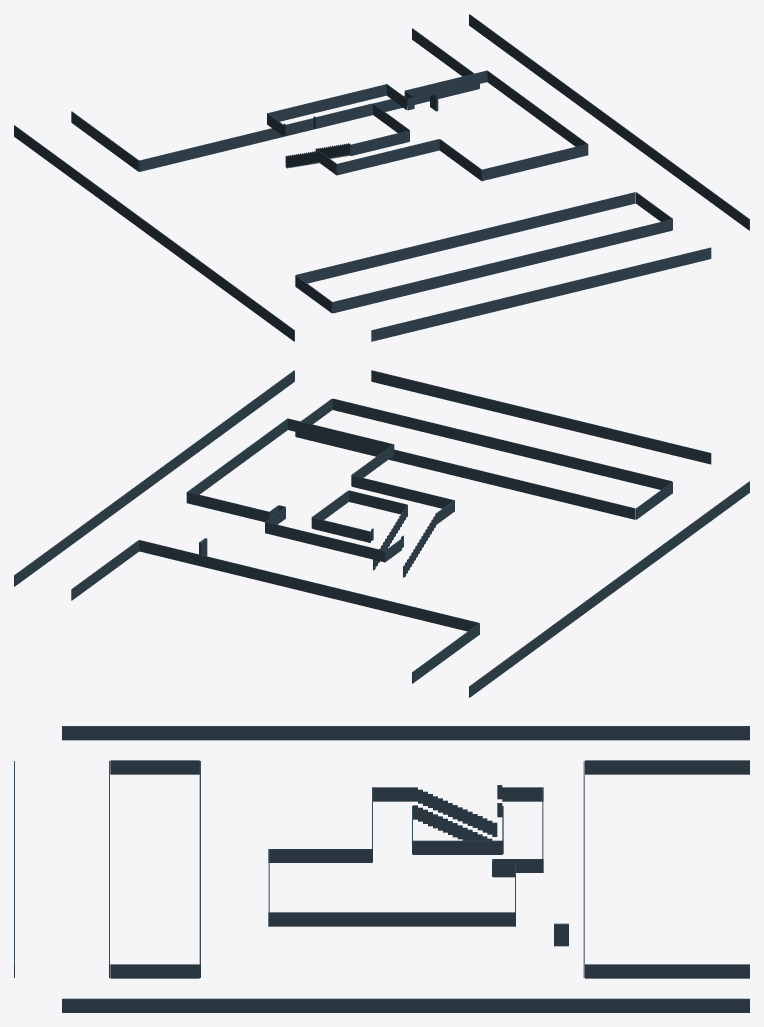
File: v02-01-05-steel.glb
3 views of the same model, one above another, from view 1: azimuth 30°, elevation 25°; view 2: azimuth 150°, elevation 25°; view 3: azimuth 270°, elevation 25° (orthographic). The views are drawn at different scales.
Parts seen in each view (by area): view 1: v02-01-05-steel; view 2: v02-01-05-steel; view 3: v02-01-05-steel.
Boxes of the visible parts, <box> form: v02-01-05-steel: <box>14,14,749,341</box>; v02-01-05-steel: <box>14,370,749,697</box>; v02-01-05-steel: <box>14,726,749,1012</box>.
Bounding box in the file's own units: 46.98 × 4.48 × 53.49.
